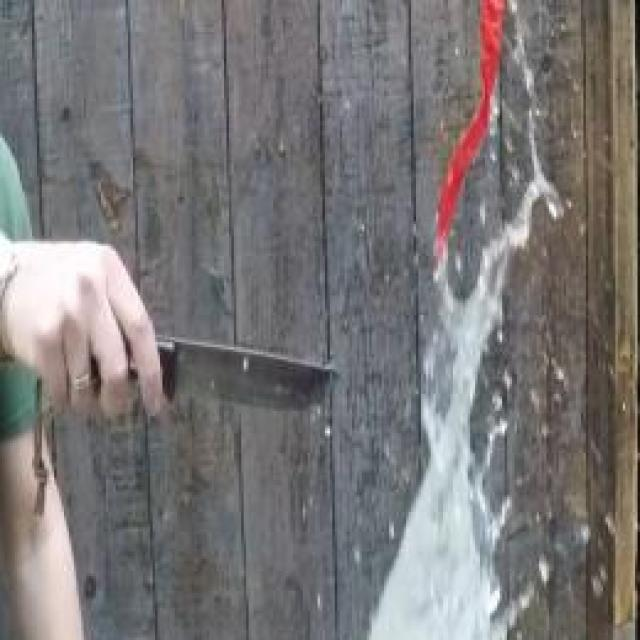knife: (72, 234, 354, 428)
